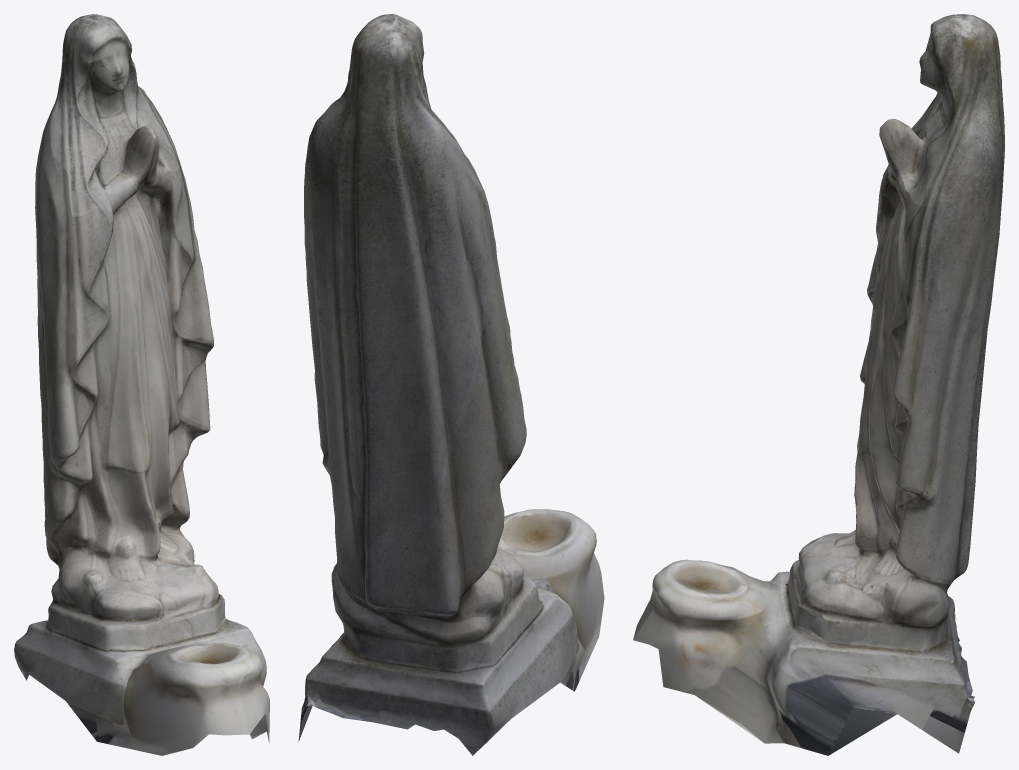
File: scan-mary-evora.glb
3 renders of one model, left to right at view 1: azimuth 30°, elevation 25°; view 2: azimuth 150°, elevation 25°; view 3: azimuth 270°, elevation 25°, orthographic. The views are drawn at different scales.
Visible parts, largest first — view 1: geometry_0; view 2: geometry_0; view 3: geometry_0.
Part boxes in pixels (x1,y1,x2,y2): geometry_0: [14, 14, 269, 755]; geometry_0: [298, 14, 604, 755]; geometry_0: [633, 14, 1004, 755].
Size of the model in its own units: 0.5638 by 2 by 0.9679.
Materials: 1 (1 with a texture image).
